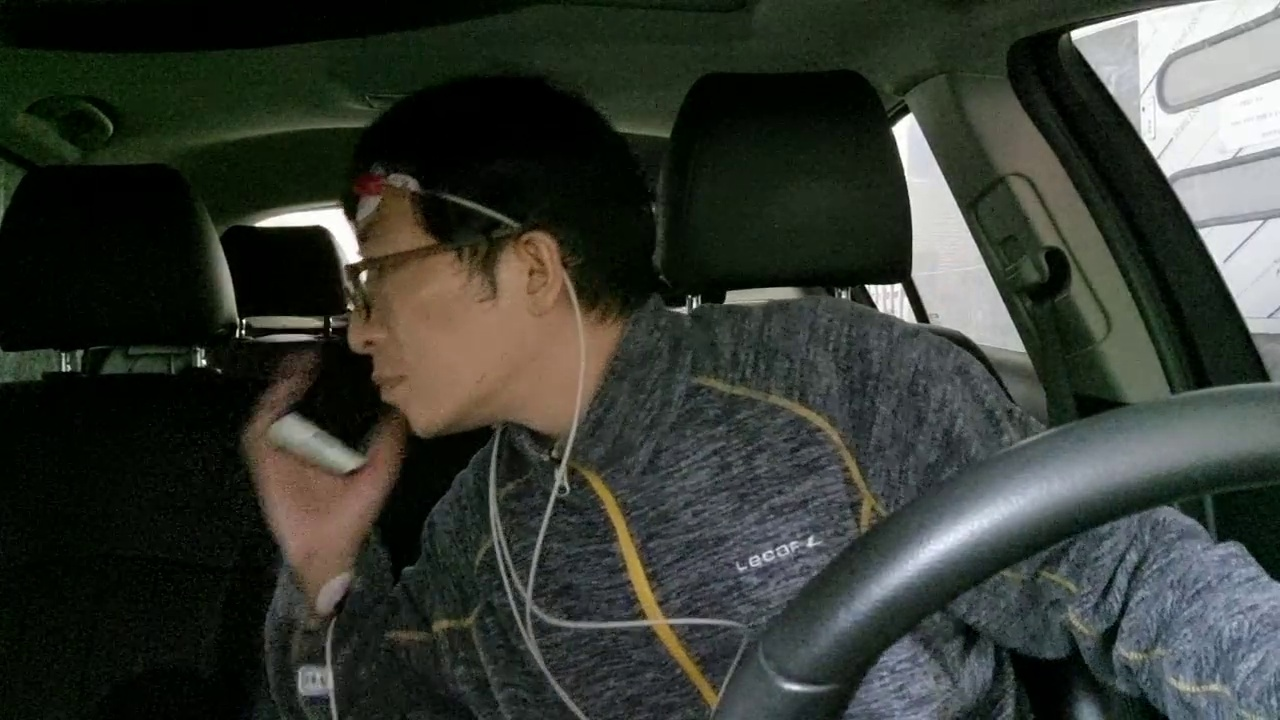phone: (254, 297, 421, 489)
